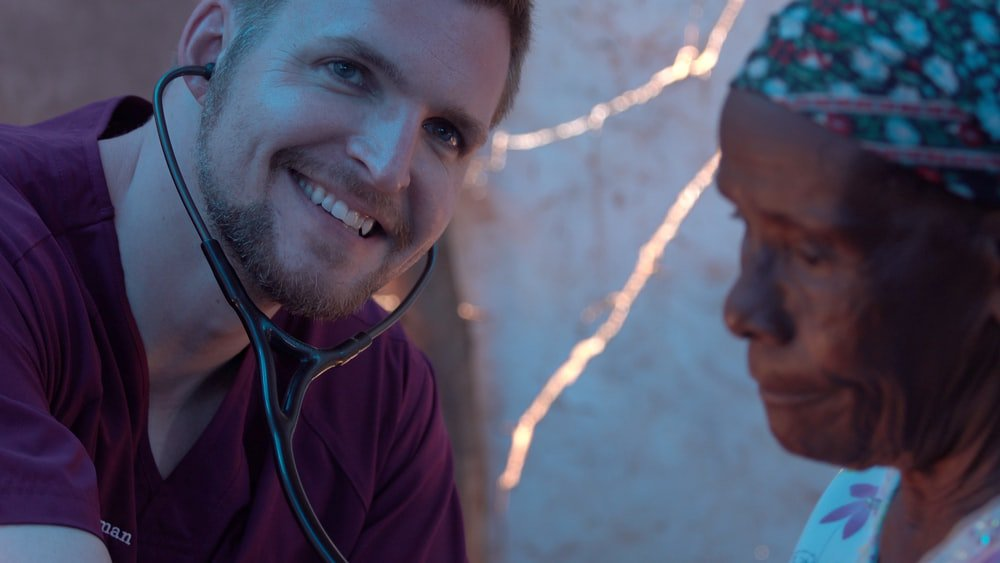noMask: (702, 4, 1000, 482), (163, 1, 534, 347)
